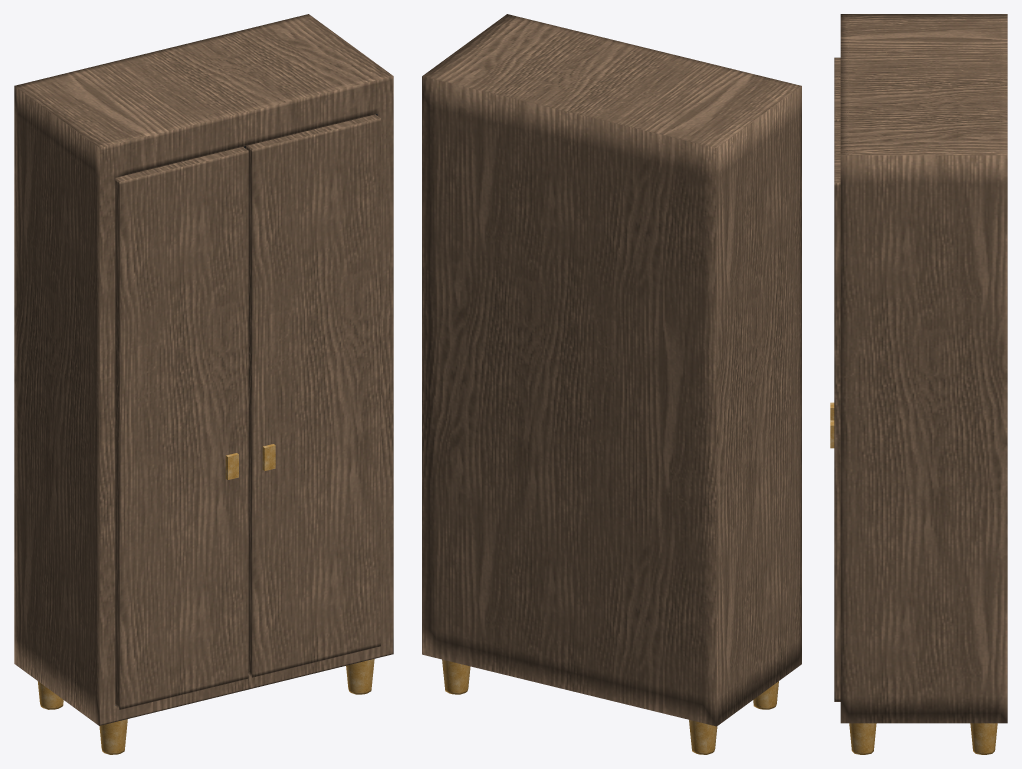
File: closet.fbx
3 views of the same model, side by side, from view 1: azimuth 30°, elevation 25°; view 2: azimuth 150°, elevation 25°; view 3: azimuth 270°, elevation 25° (orthographic).
Visible parts, largest first — view 1: Base, door.001, door.002, Support.002, Support.001; view 2: Base, Support.004, Support.003; view 3: Base, door.002, Support.004, Support.002, door.001.
Part boxes in pixels (x1,y1,x2,y2): Base: (14,14,393,725); door.001: (115,147,248,709); door.002: (246,114,380,677); Support.002: (346,659,374,694); Support.001: (99,719,127,754); Base: (422,14,801,726); Support.004: (442,659,470,694); Support.003: (689,720,717,754); Base: (840,14,1007,723); door.002: (834,121,840,701); Support.004: (970,723,997,754); Support.002: (849,723,876,754); door.001: (834,57,840,121).
Size of the model in its own units: 80 by 160 by 42.5.
3 materials, 3 textured.
